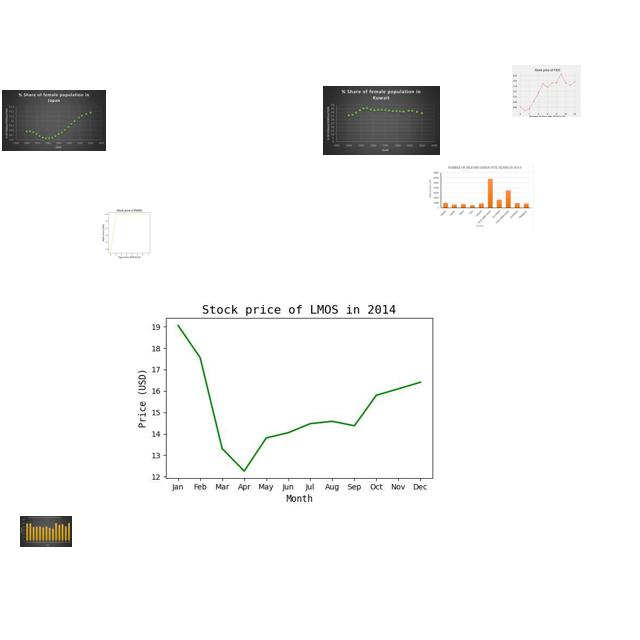Graph: (123, 268, 467, 526), (323, 86, 440, 155), (427, 163, 534, 231), (2, 90, 106, 151), (93, 206, 164, 259), (512, 65, 581, 117), (20, 516, 72, 547)
